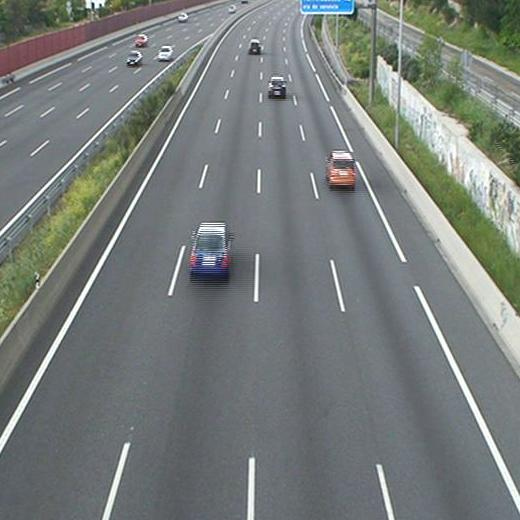car: (188, 222, 231, 281), (325, 151, 357, 192), (267, 76, 287, 101), (249, 39, 262, 56)
